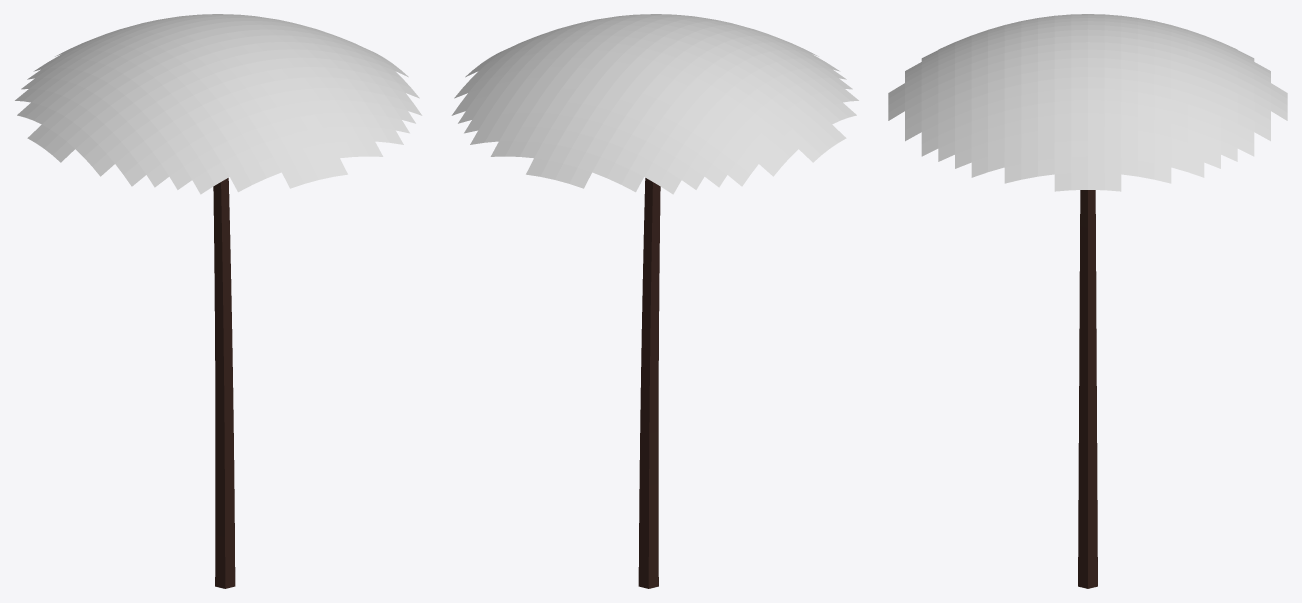
The model's file is VerTree05.glb.
3 renders of one model, left to right at view 1: azimuth 30°, elevation 25°; view 2: azimuth 150°, elevation 25°; view 3: azimuth 270°, elevation 25°, orthographic.
Visible parts, largest first — view 1: VerTree05; view 2: VerTree05; view 3: VerTree05.
Part boxes in pixels (box(x1,y1,x2,y2)): VerTree05: box(15, 14, 422, 588); VerTree05: box(451, 14, 858, 588); VerTree05: box(888, 14, 1287, 588).
Bounding box in the file's own units: 6.5 × 9.68 × 6.5.
